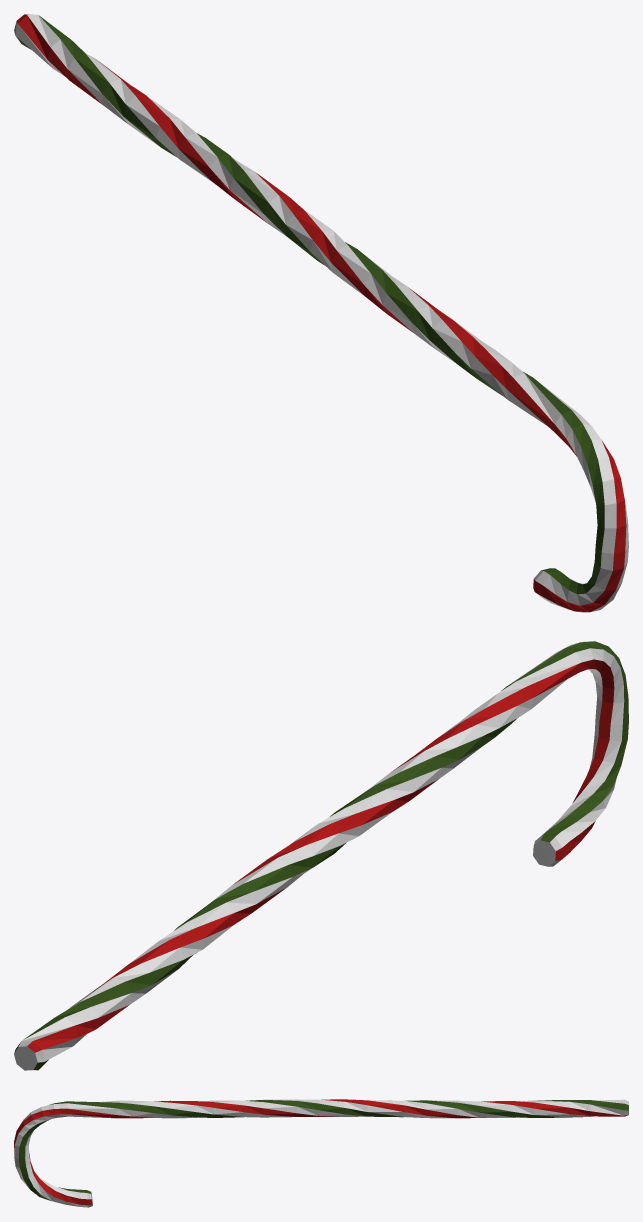
File: candyCaneArrow.glb
3 renders of one model, top to bottom at view 1: azimuth 30°, elevation 25°; view 2: azimuth 150°, elevation 25°; view 3: azimuth 270°, elevation 25°, orthographic. The views are drawn at different scales.
Visible parts, largest first — view 1: candyCaneArrow; view 2: candyCaneArrow; view 3: candyCaneArrow.
Boxes of the visible parts, x1,y1,x2,y2 form: candyCaneArrow: [14, 14, 628, 612]; candyCaneArrow: [14, 641, 628, 1070]; candyCaneArrow: [14, 1099, 628, 1207].
Bounding box in the file's own units: 0.0321 × 0.1969 × 1.04.
